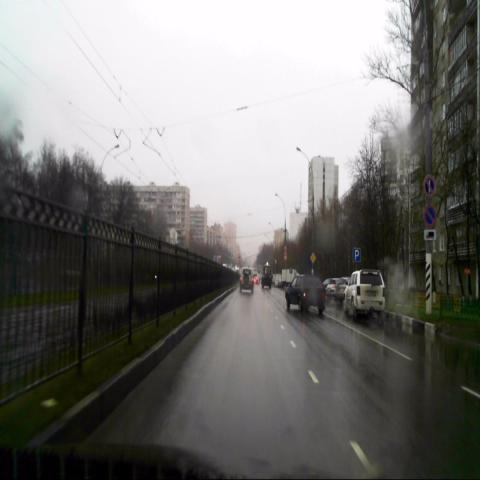3_28: (424, 205, 436, 227)
3_29: (423, 175, 435, 197)
